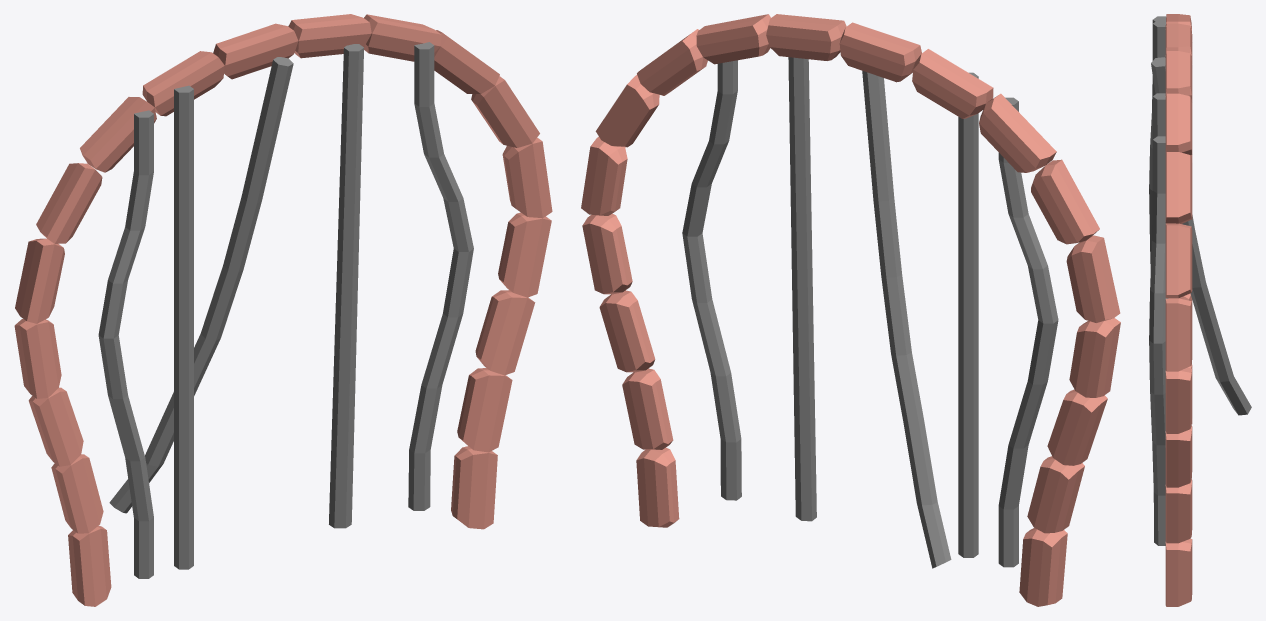
Rendered from Grate.fbx.
3 views of the same model, side by side, from view 1: azimuth 30°, elevation 25°; view 2: azimuth 150°, elevation 25°; view 3: azimuth 270°, elevation 25° (orthographic). The views are drawn at different scales.
Visible parts, largest first — view 1: Old Timey / Cartoony, Cylinder.001; view 2: Old Timey / Cartoony, Cylinder.001; view 3: Old Timey / Cartoony, Cylinder.001.
Part boxes in pixels (x1,y1,x2,y2): Old Timey / Cartoony: (14, 14, 552, 606); Cylinder.001: (98, 42, 473, 578); Old Timey / Cartoony: (581, 14, 1120, 606); Cylinder.001: (682, 57, 1058, 568); Old Timey / Cartoony: (1165, 14, 1192, 606); Cylinder.001: (1149, 16, 1251, 545).
Bounding box in the file's own units: 267 × 264 × 51.5.
